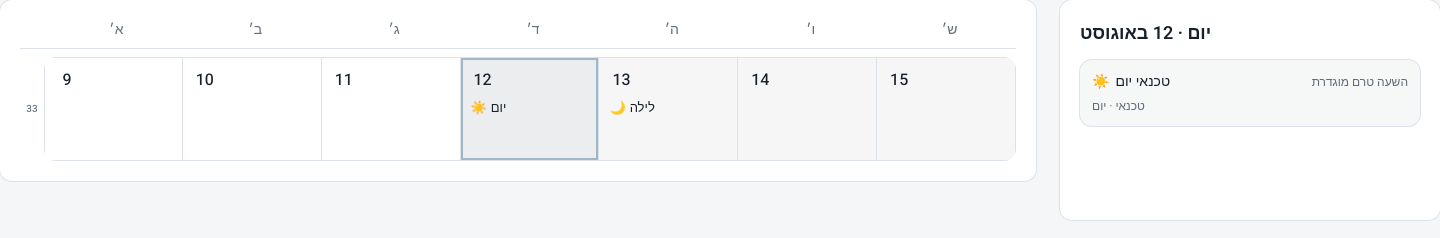
Test: ScheduleCalendar › clicking a different day updates the selected-day panel
Expected: the text "טכנאי יום" is shown, [1116, 71, 1170, 92]
Expected: the text "טכנאי לילה" is not shown
What coordinates should you click on to do the following:
click the button with aria-label "13 באוגוסט"
I would click on:
 (669, 109)
Its box is [599, 57, 738, 161].
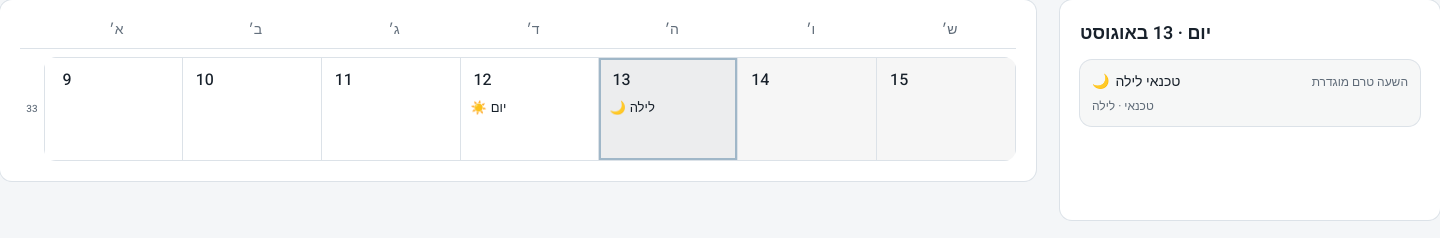
Expected: the text "טכנאי לילה" is shown, [1116, 71, 1180, 92]
Expected: the text "טכנאי יום" is gone
